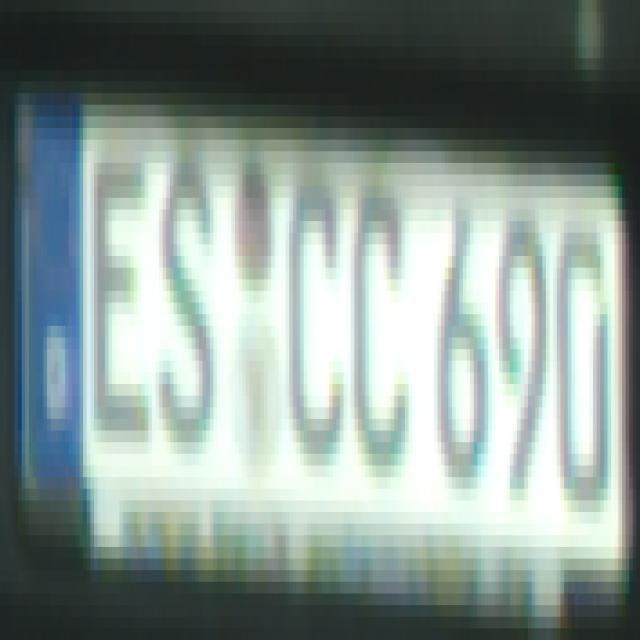Allemagne: (19, 106, 82, 515)
EU: (18, 98, 626, 567)
